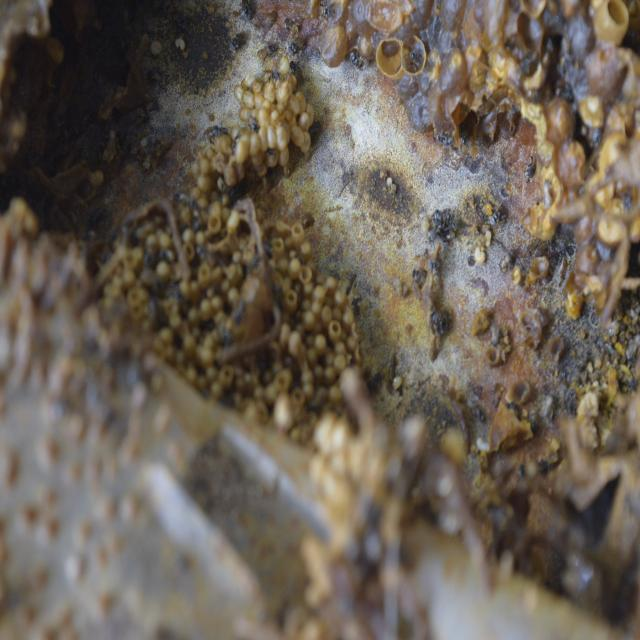honeybee: (350, 54, 368, 83), (289, 34, 301, 62), (248, 110, 258, 136), (288, 62, 301, 82), (262, 37, 272, 51), (217, 128, 228, 140), (274, 57, 278, 77)
